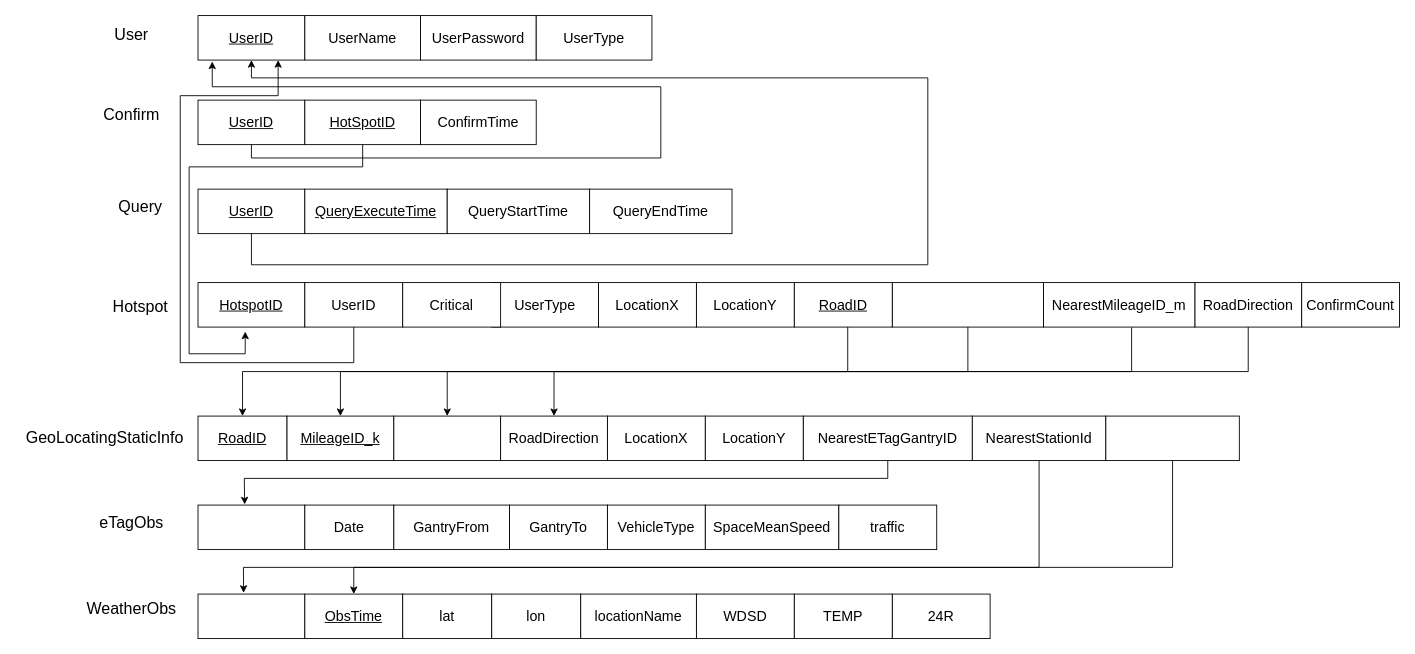
This 1415x654 diagram has some shape labels left out. Each missing label, with the box of its shape:
ETagGantryID: (197, 504, 305, 550)
MileageID_m: (393, 415, 501, 461)
NearestMileageID_k: (891, 282, 1044, 327)
NearestObsTime: (1105, 415, 1239, 461)
StationId: (197, 593, 305, 639)
